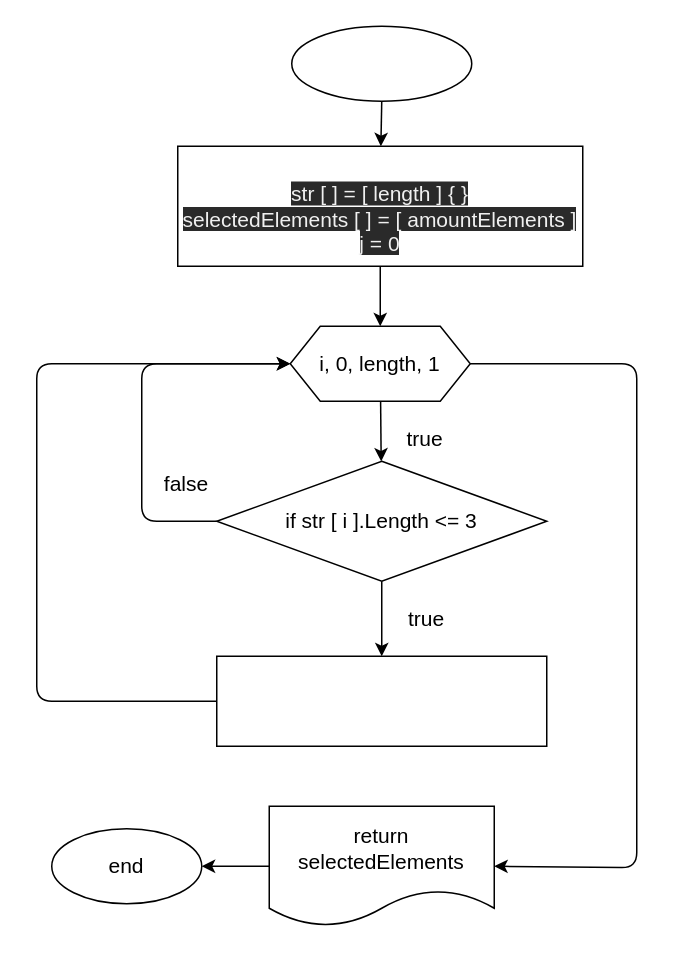
Image size: 675x953. Some labels were removed from this diagram. The centre of each missing label's shape, as x and y in pixels:
selectedElements [ j ] = str [ i ] j = j +1: (381,700)
start: (381,63)
